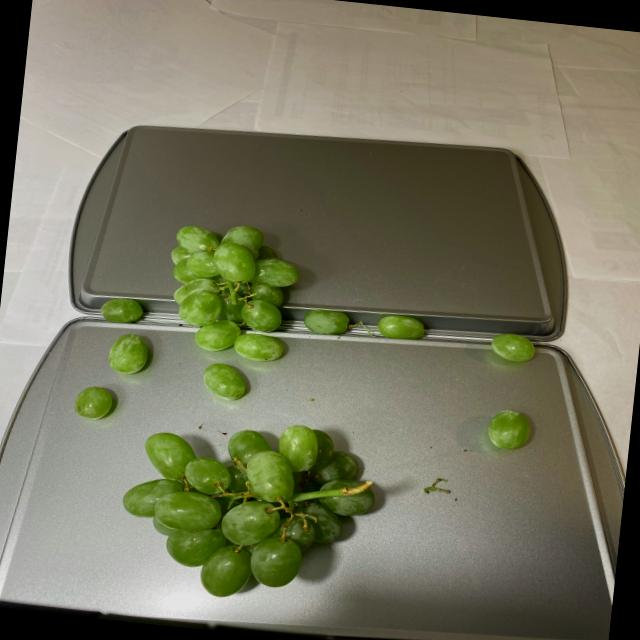grapes: (66, 213, 397, 606), (478, 328, 540, 451)
